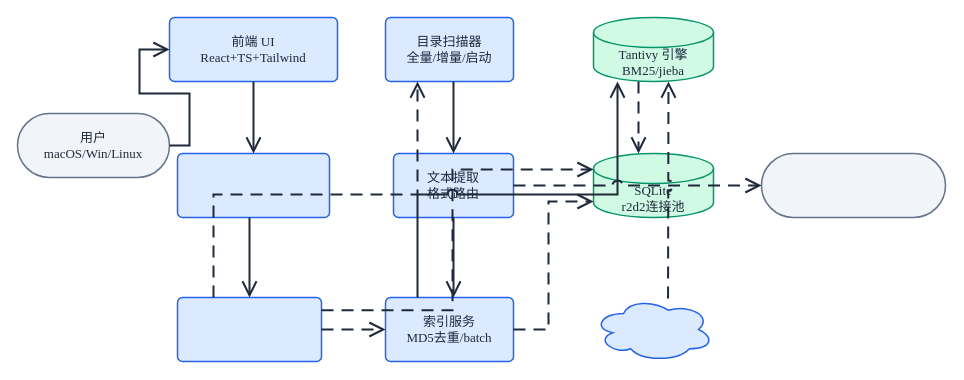
This 964x380 diagram has some shape labels left out. The shapes that lost their labels are listed below. From the top down, each one's centre as x and y in pixels, then its label:
At [253,185]: "Tauri IPC commands/invoke".
At [853,185]: "OCR引擎 Paddle/Vision/Funasr".
At [249,329]: "启动核心 bootstrap_core".
At [653,329]: "AI 网关 OpenAI兼容".
